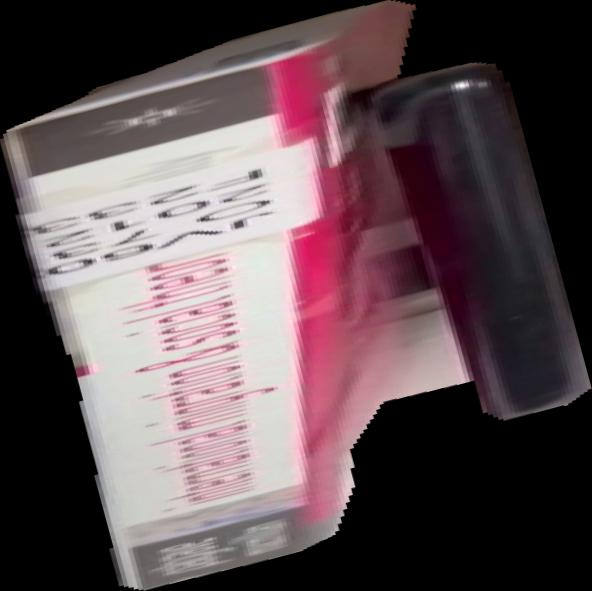reverse: (1, 1, 592, 591)
